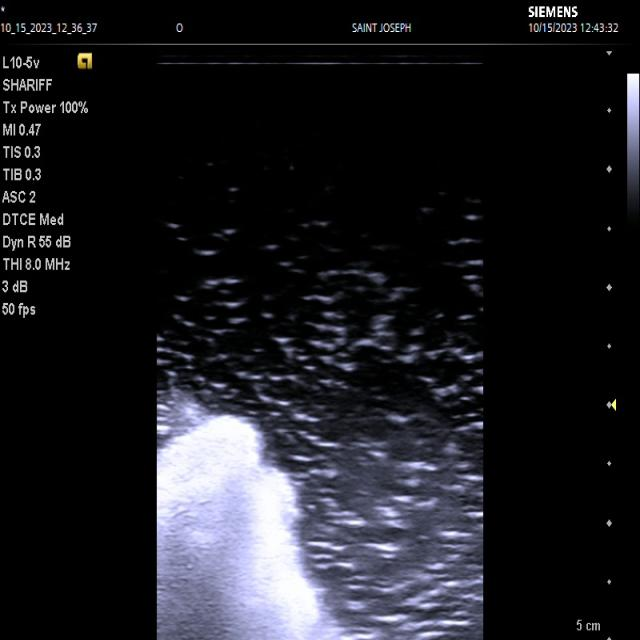tissue: (157, 411, 350, 640)
